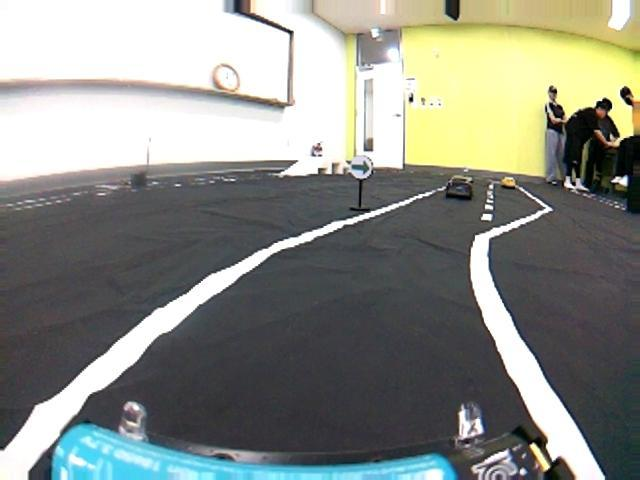car: (443, 170, 472, 196), (499, 175, 517, 186)
sign_right: (351, 156, 374, 183)
straight: (3, 257, 640, 474)
